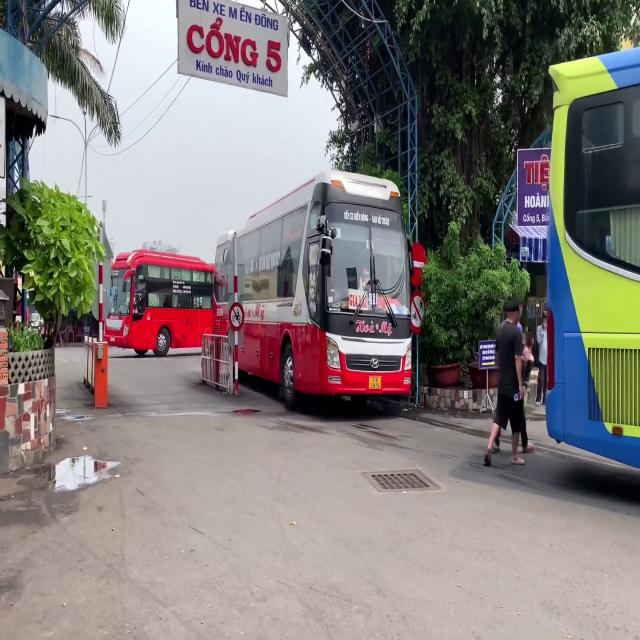bien_vang: (369, 376, 381, 389)
